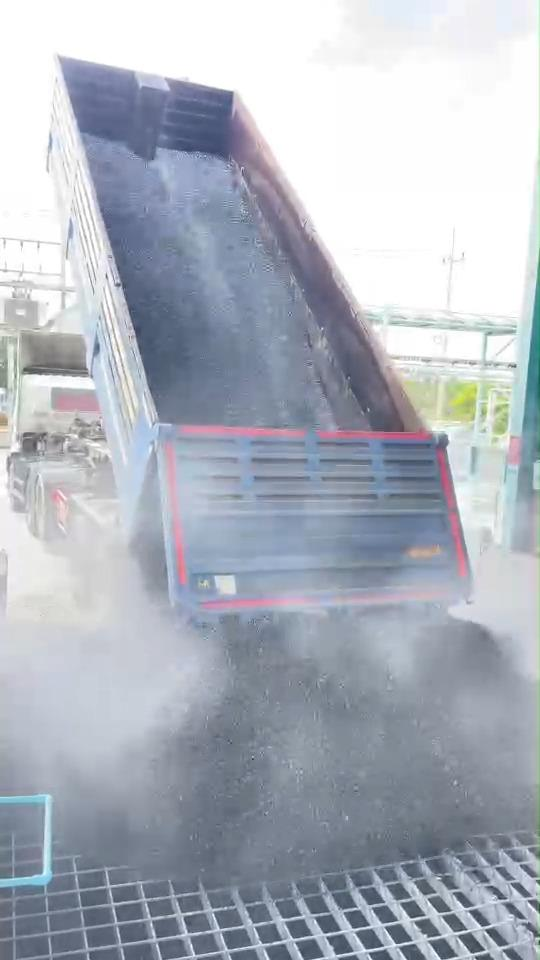gravel: (89, 616, 537, 882), (85, 136, 334, 426), (358, 419, 361, 425)
